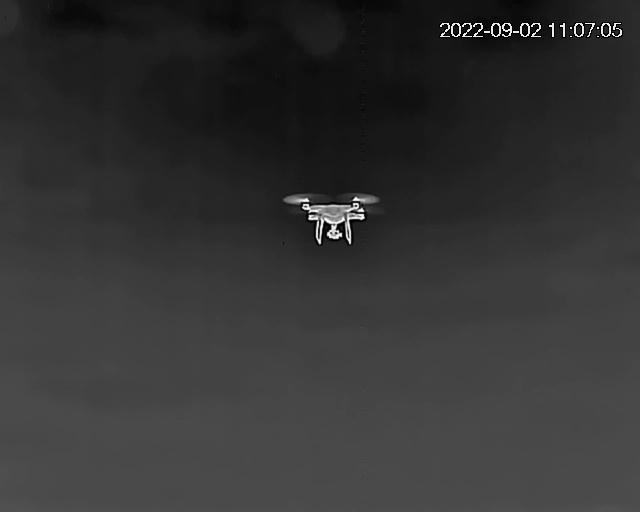DJI-Phantom: (289, 192, 380, 246)
